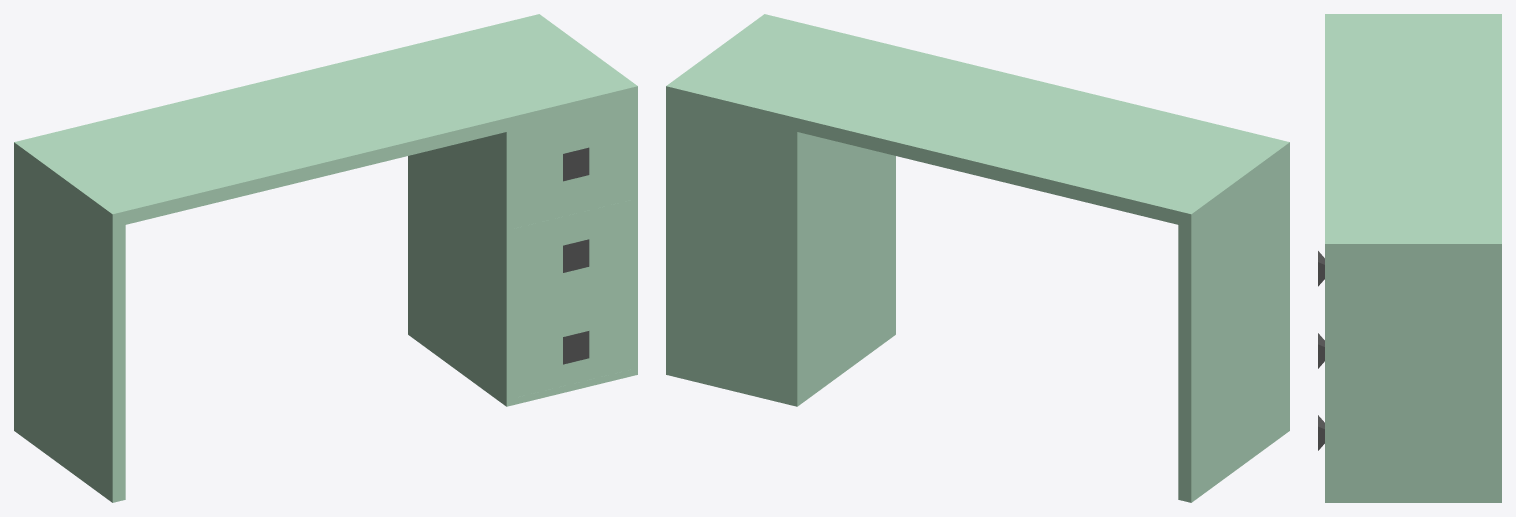
Rendered from Desk_1.fbx.
The picture shows the model from 3 angles, left to right: view 1: azimuth 30°, elevation 25°; view 2: azimuth 150°, elevation 25°; view 3: azimuth 270°, elevation 25°; orthographic projection. The views are drawn at different scales.
Visible parts, largest first — view 1: Desk, Drawer.001, Drawer, Drawer.002, Knob, Knob.001, Knob.002; view 2: Desk; view 3: Desk.
Part boxes in pixels (left/top/right/bottom): Desk: left=14, top=14, right=637, bottom=502; Drawer.001: left=513, top=200, right=631, bottom=306; Drawer: left=513, top=108, right=631, bottom=214; Drawer.002: left=513, top=291, right=631, bottom=398; Knob: left=563, top=147, right=589, bottom=181; Knob.001: left=563, top=239, right=589, bottom=272; Knob.002: left=563, top=331, right=589, bottom=364; Desk: left=666, top=14, right=1289, bottom=502; Desk: left=1325, top=14, right=1501, bottom=502.
Size of the model in its own units: 400 by 210 by 135.
